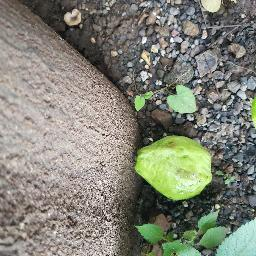Good_guava: (133, 131, 215, 201)
